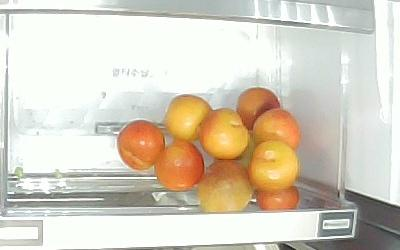prune: (198, 159, 253, 213), (248, 140, 300, 191), (156, 140, 205, 192), (117, 120, 166, 171), (201, 108, 250, 159), (165, 95, 214, 142), (237, 86, 280, 131), (253, 109, 301, 149), (257, 184, 299, 211)
